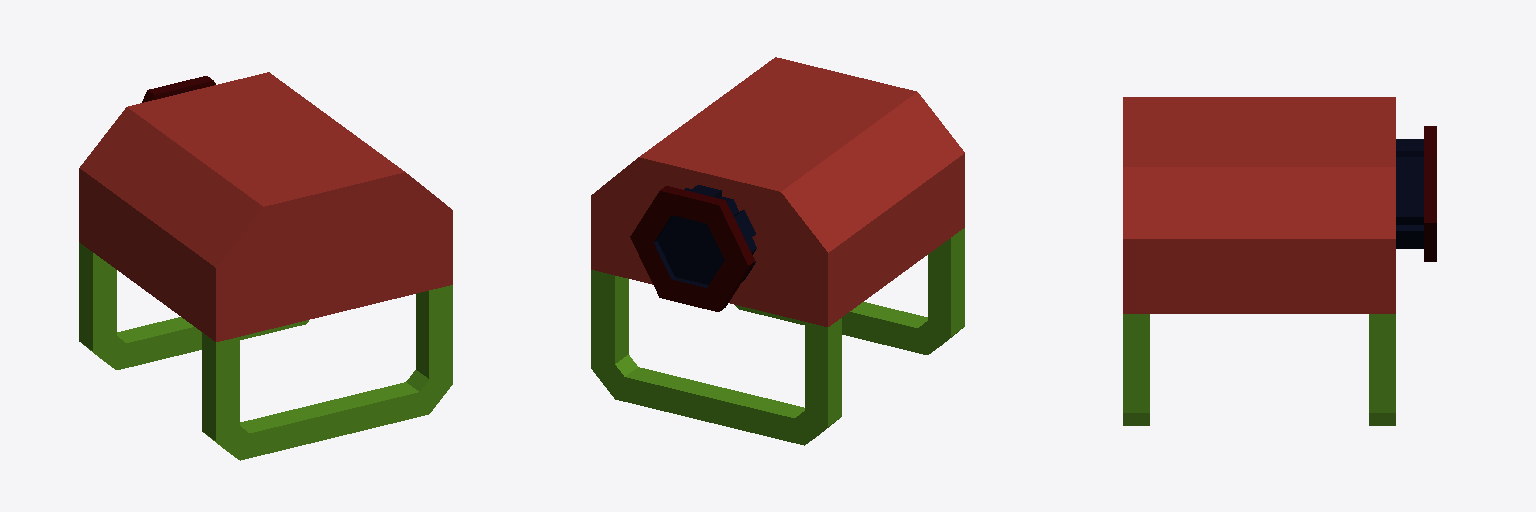
File: GreebusExteriorMinimal.obj
3 renders of one model, left to right at view 1: azimuth 30°, elevation 25°; view 2: azimuth 150°, elevation 25°; view 3: azimuth 270°, elevation 25°, orthographic.
Visible parts, largest first — view 1: mergedBlocks; view 2: mergedBlocks; view 3: mergedBlocks.
Boxes of the visible parts, <box> form: mergedBlocks: <box>79,72,452,460</box>; mergedBlocks: <box>591,57,964,445</box>; mergedBlocks: <box>1123,97,1436,425</box>.
Bounding box in the file's own units: 1 × 1 × 1.15.